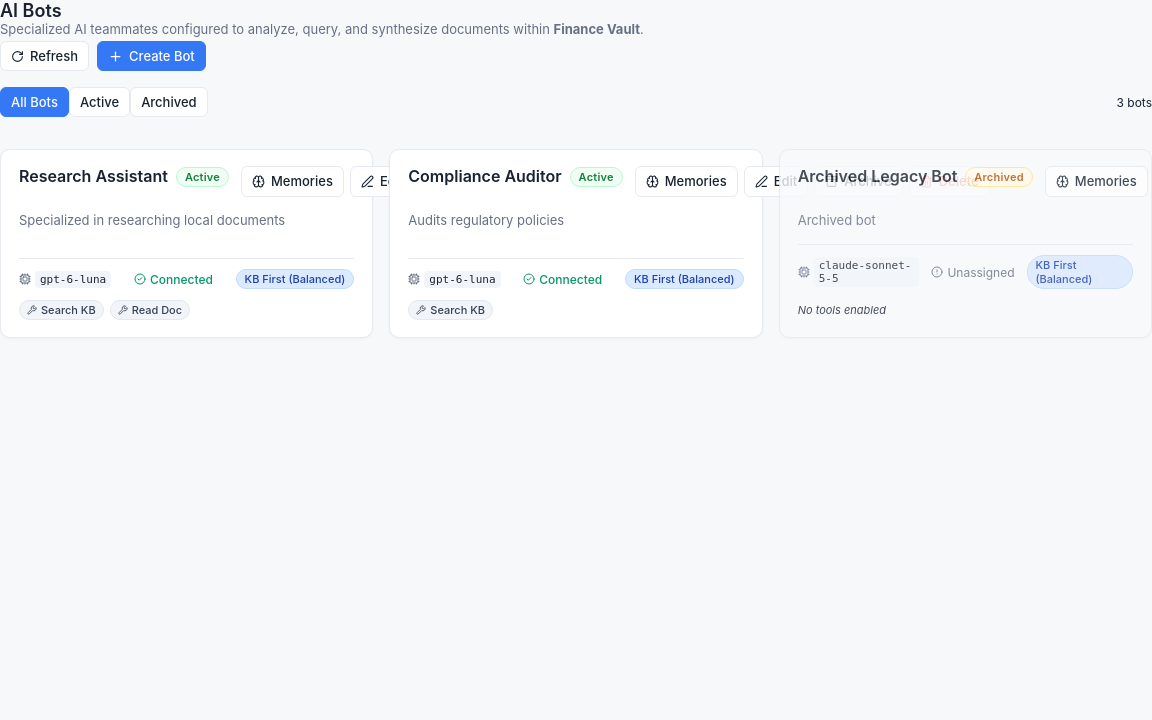
Test case: Renderer: BotConversationsWorkspacePage Unified Single Conversation (Phase 12 Step 12.2) › 8. navigates from WorkspaceBotsPage directly into Bot canonical conversation workspace
This screenshot has width=1152, height=720.
Click the button with aria-label "Bot: Research Assistant". click: {"x": 93, "y": 176}
box: 0,149 -> 373,338
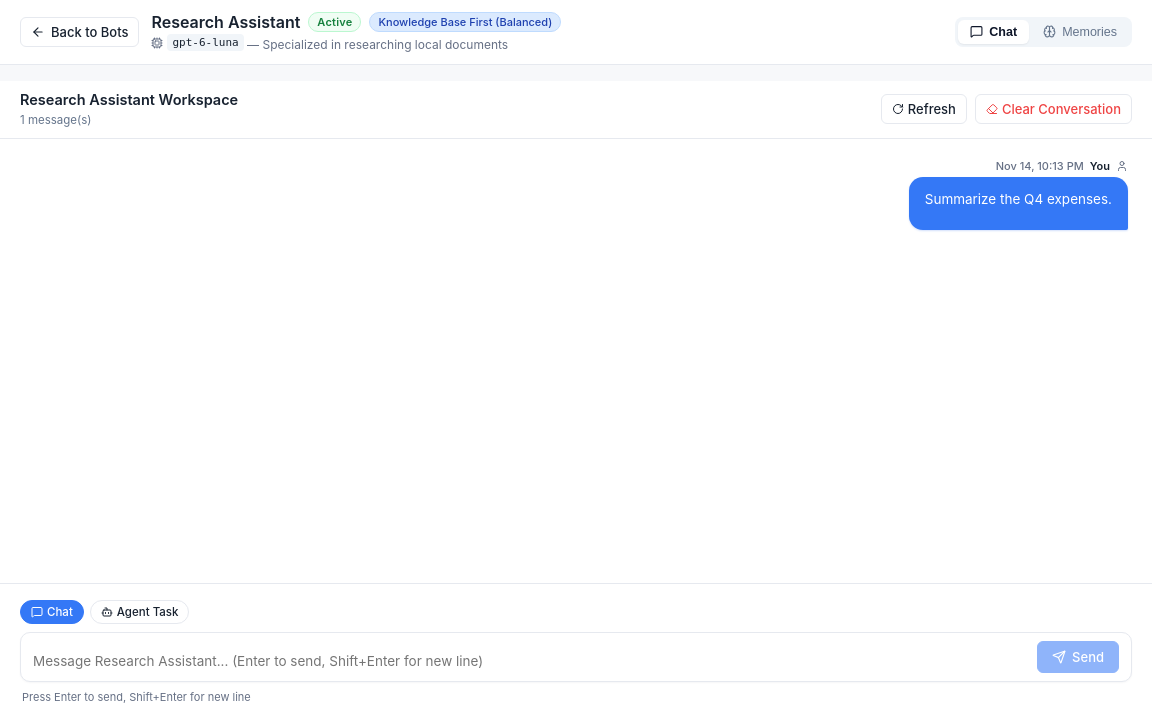
Expected: the heading with test id "bot-conversations-title" reads "Research Assistant", 152,12 -> 300,32
Expected: the heading with test id "selected-conversation-title" reads "Research Assistant Workspace", 20,90 -> 238,108
